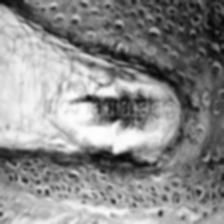Non-Cancerous Skin Condition: (0, 0, 218, 154), (0, 159, 220, 219)
